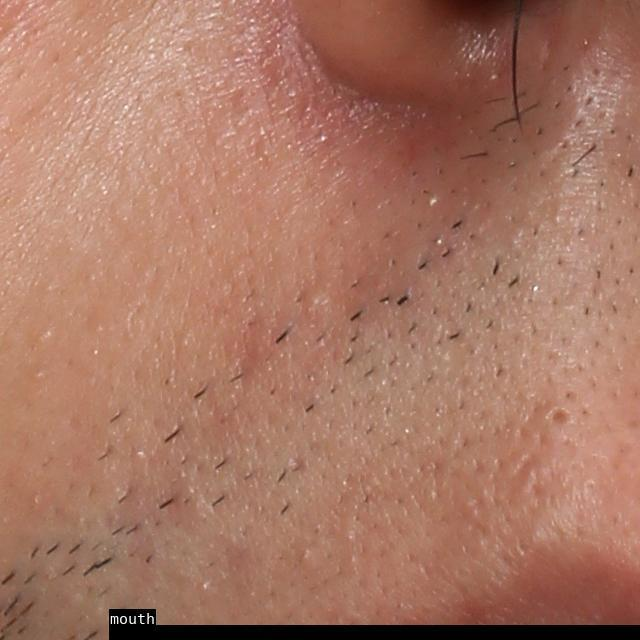comedo: (298, 283, 333, 317), (541, 404, 576, 432)
